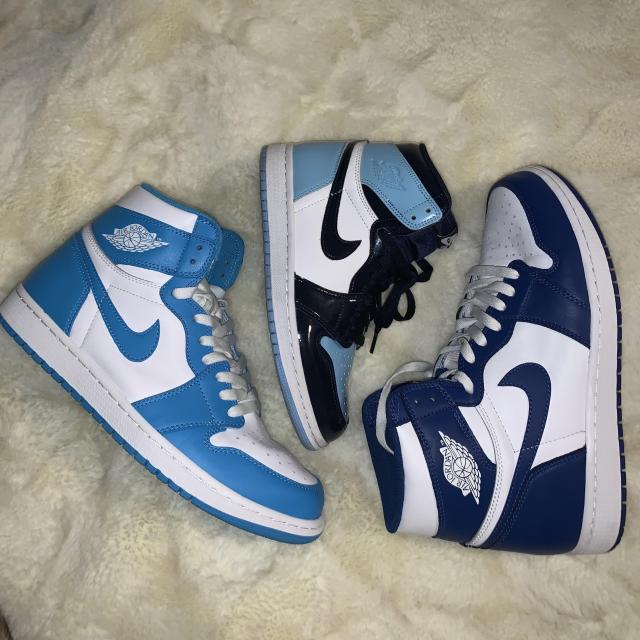shoe: (0, 178, 329, 547), (360, 164, 626, 558), (258, 136, 462, 448)
